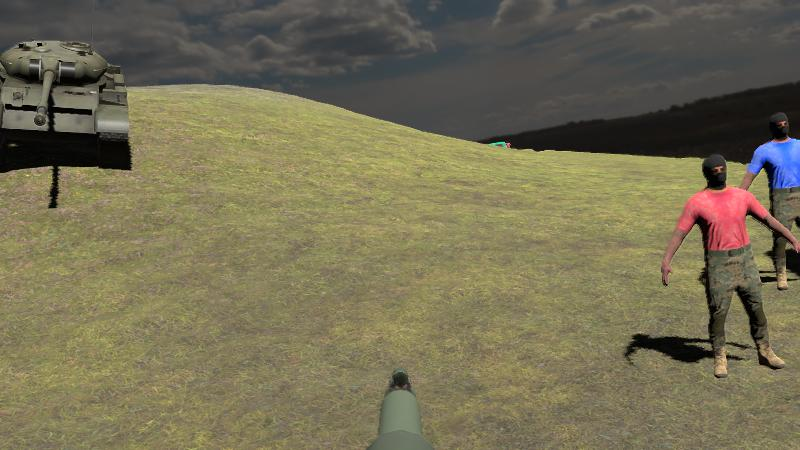Human: (661, 149, 800, 378), (736, 111, 800, 290)
Tank: (0, 38, 129, 169)
